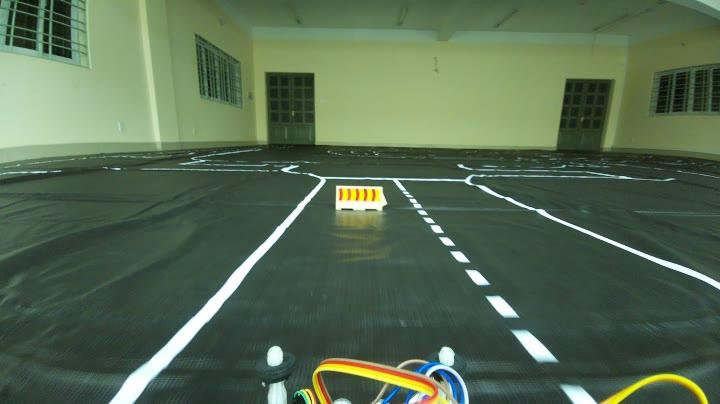roadblock: (330, 183, 396, 215)
